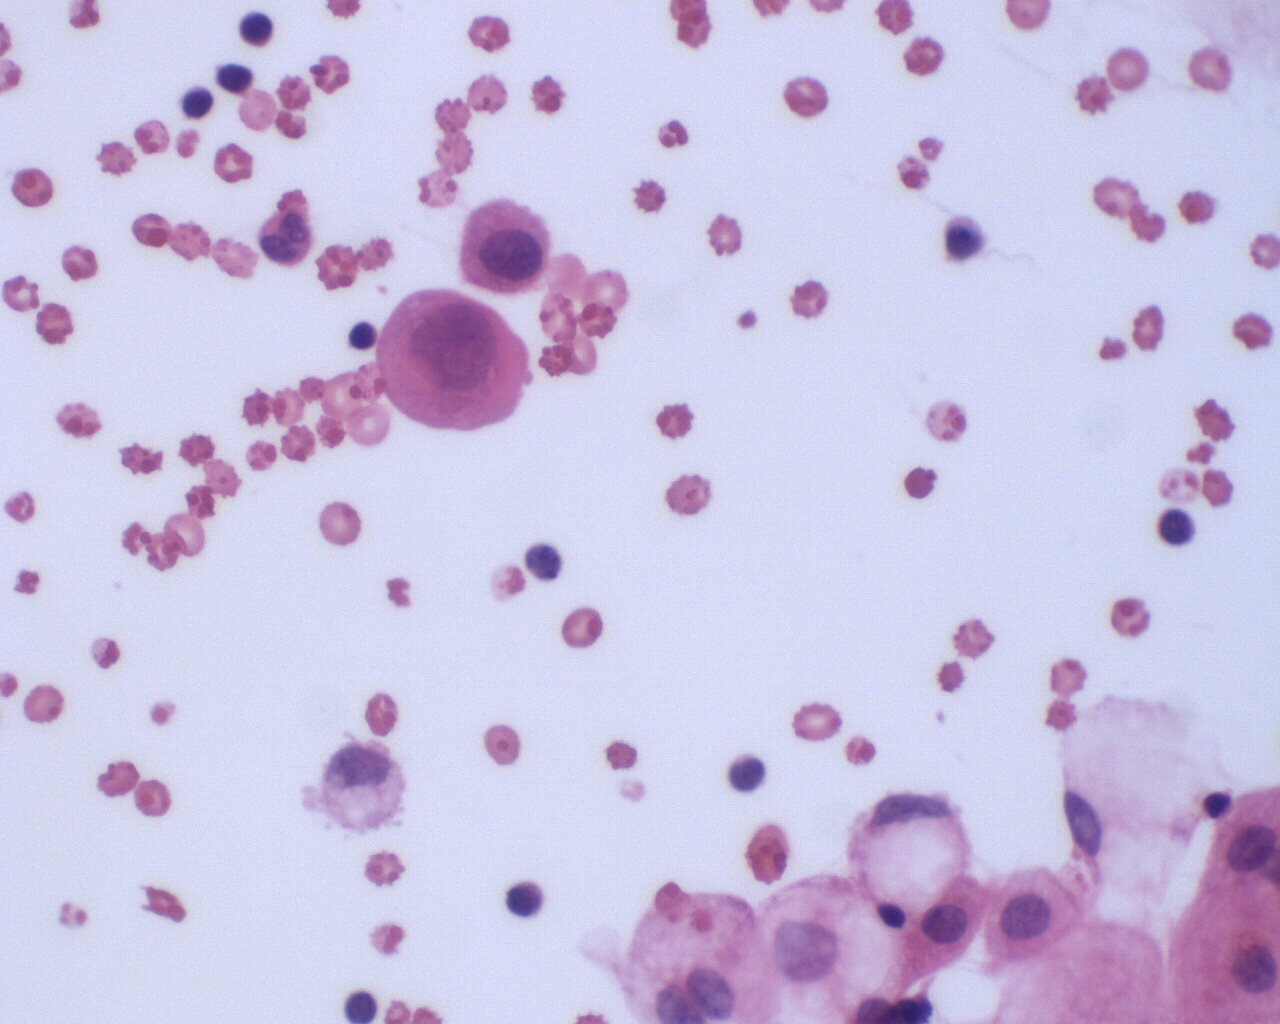ab: (375, 287, 534, 441)
histo: (1056, 685, 1225, 885), (851, 785, 976, 915)
lymph: (505, 877, 551, 925), (1154, 506, 1201, 551), (235, 7, 278, 49), (177, 85, 218, 123)
meso: (458, 199, 563, 303)
